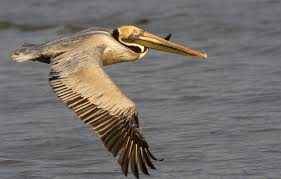pelican: (10, 25, 207, 177)
